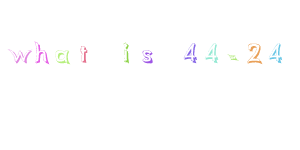-: (226, 52, 239, 62)
2: (245, 41, 263, 63)
4: (181, 41, 198, 64), (204, 42, 219, 64), (268, 42, 283, 63)
a: (55, 49, 70, 64)
h: (34, 40, 49, 63)
i: (121, 41, 131, 62)
s: (141, 48, 154, 64)
t: (79, 44, 88, 64)
w: (6, 48, 32, 63)
